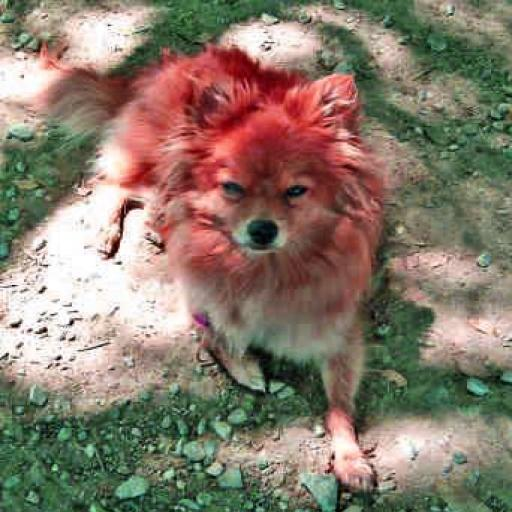dog_face: (192, 74, 350, 251)
